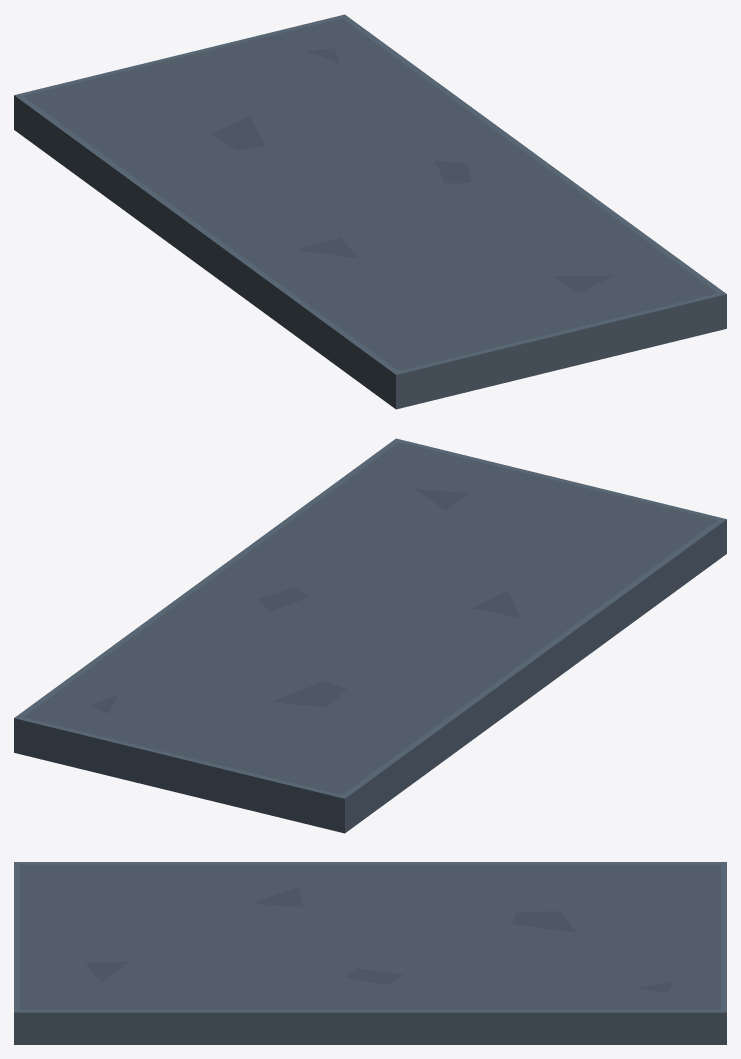
The model's file is ConcrateSlabs_C_3_3.glb.
3 renders of one model, top to bottom at view 1: azimuth 30°, elevation 25°; view 2: azimuth 150°, elevation 25°; view 3: azimuth 270°, elevation 25°, orthographic. The views are drawn at different scales.
Visible parts, largest first — view 1: ConcrateSlabs_C_3_3; view 2: ConcrateSlabs_C_3_3; view 3: ConcrateSlabs_C_3_3.
Boxes of the visible parts, x1,y1,x2,y2 form: ConcrateSlabs_C_3_3: [14, 14, 726, 409]; ConcrateSlabs_C_3_3: [14, 438, 726, 833]; ConcrateSlabs_C_3_3: [14, 862, 726, 1044].
Size of the model in its own units: 4 by 0.4 by 8.
1 material, 1 textured.
